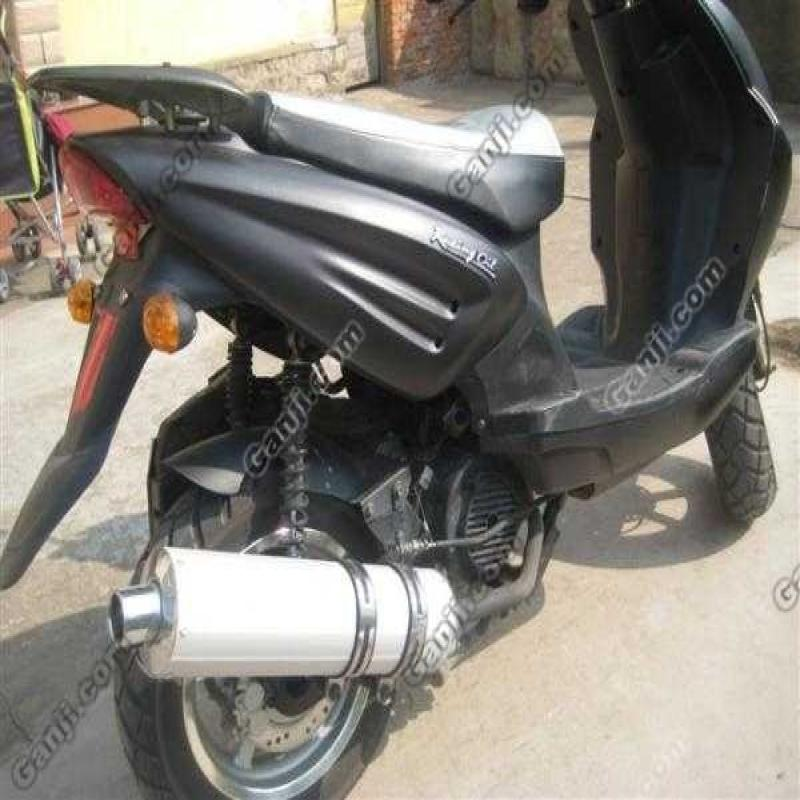bike: (0, 9, 798, 793)
